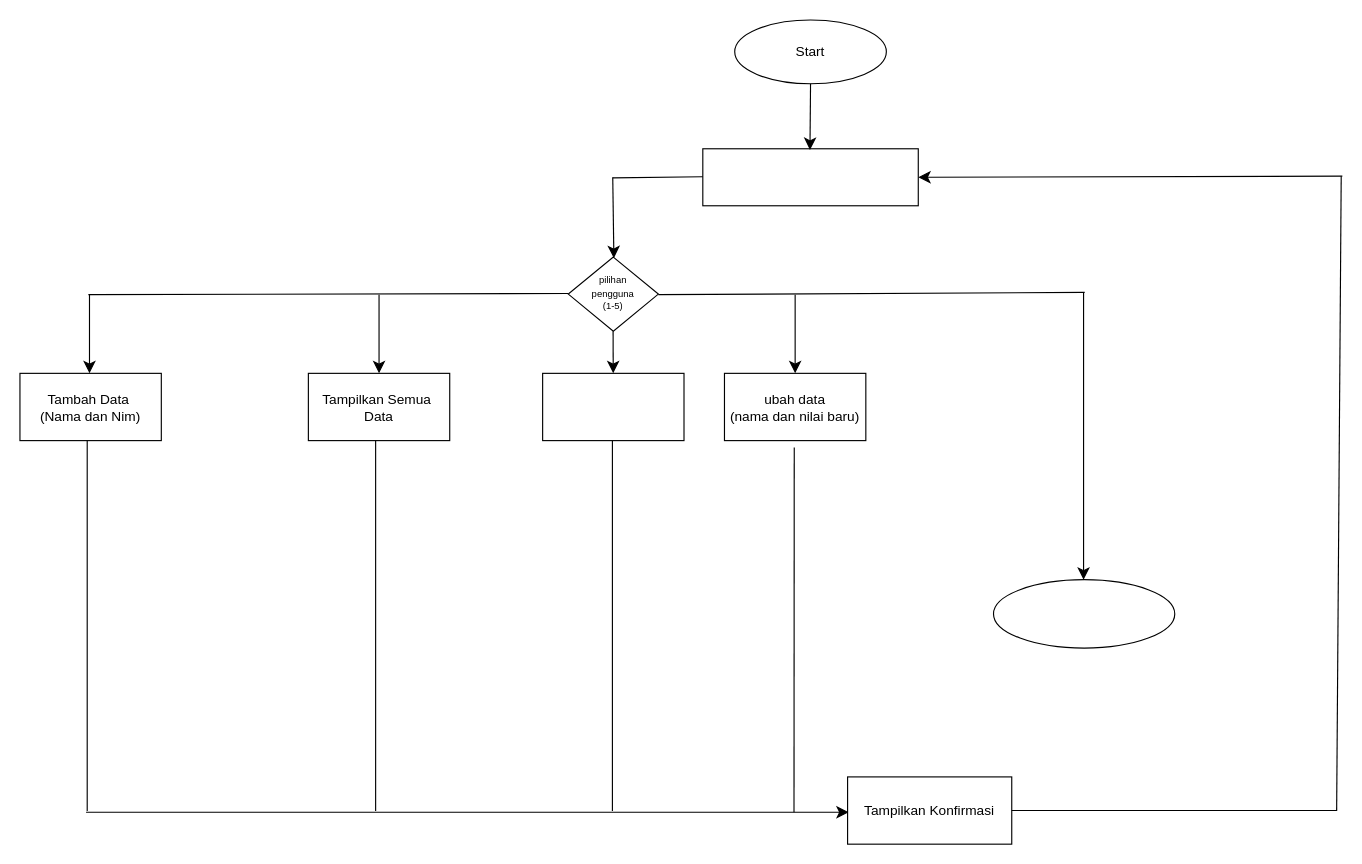
Some shapes in this 1362 by 864 pixel diagram are drawn without their labels. Each missing label, with the box of its shape:
Akhir Program (End): (992, 579, 1175, 648)
hapus data (berdasarkan nama): (542, 372, 684, 441)
Tampilkan Waktu: (702, 148, 918, 206)
